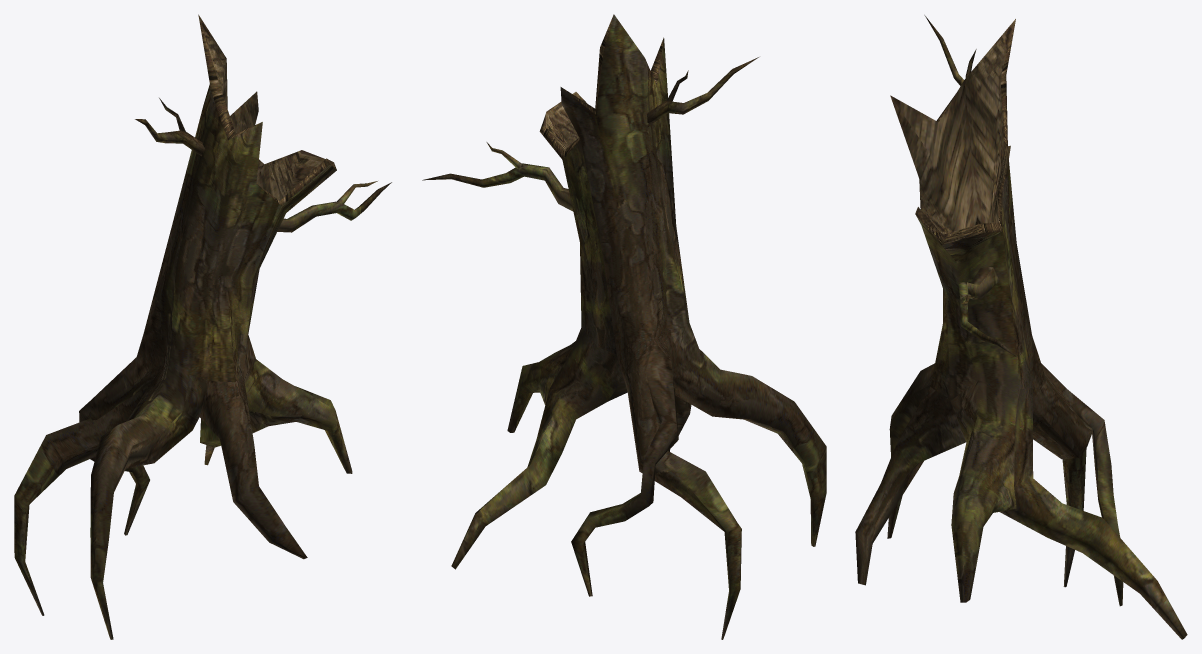
File: 10104_Tree_K07.FBX
3 renders of one model, left to right at view 1: azimuth 30°, elevation 25°; view 2: azimuth 150°, elevation 25°; view 3: azimuth 270°, elevation 25°, orthographic. The views are drawn at different scales.
Parts seen in each view (by area): view 1: objBM_N_Wtree005; view 2: objBM_N_Wtree005; view 3: objBM_N_Wtree005.
Boxes of the visible parts, bbox=[...] form: objBM_N_Wtree005: bbox=[14, 14, 391, 639]; objBM_N_Wtree005: bbox=[422, 14, 826, 639]; objBM_N_Wtree005: bbox=[855, 15, 1187, 639].
Size of the model in its own units: 469 by 740 by 348.
